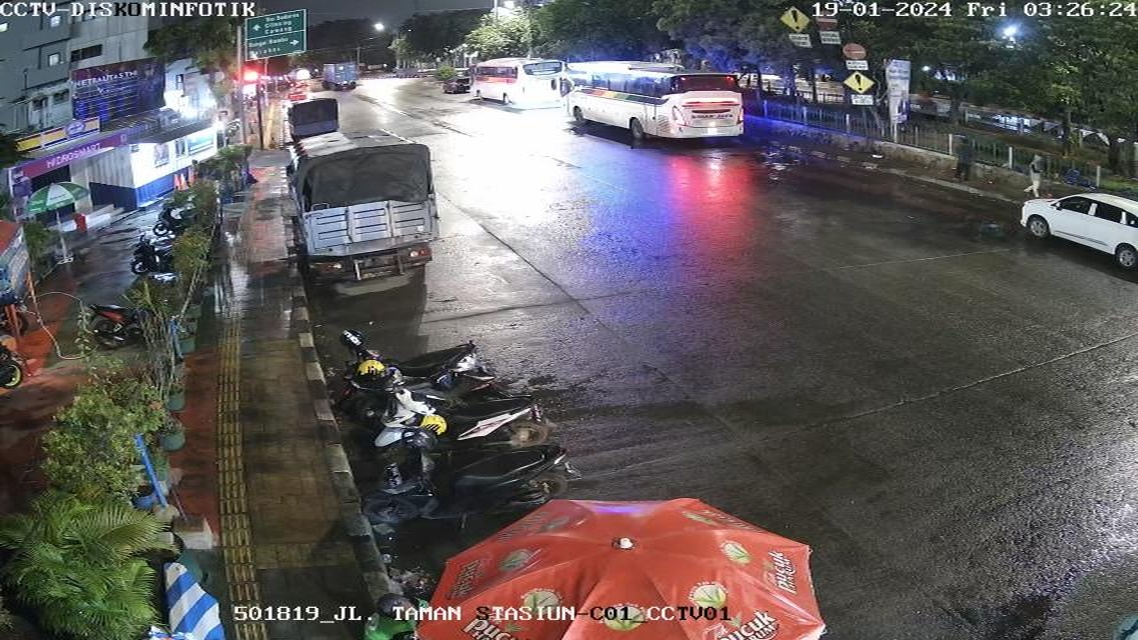Payung: (405, 488, 836, 640), (16, 181, 101, 214)
